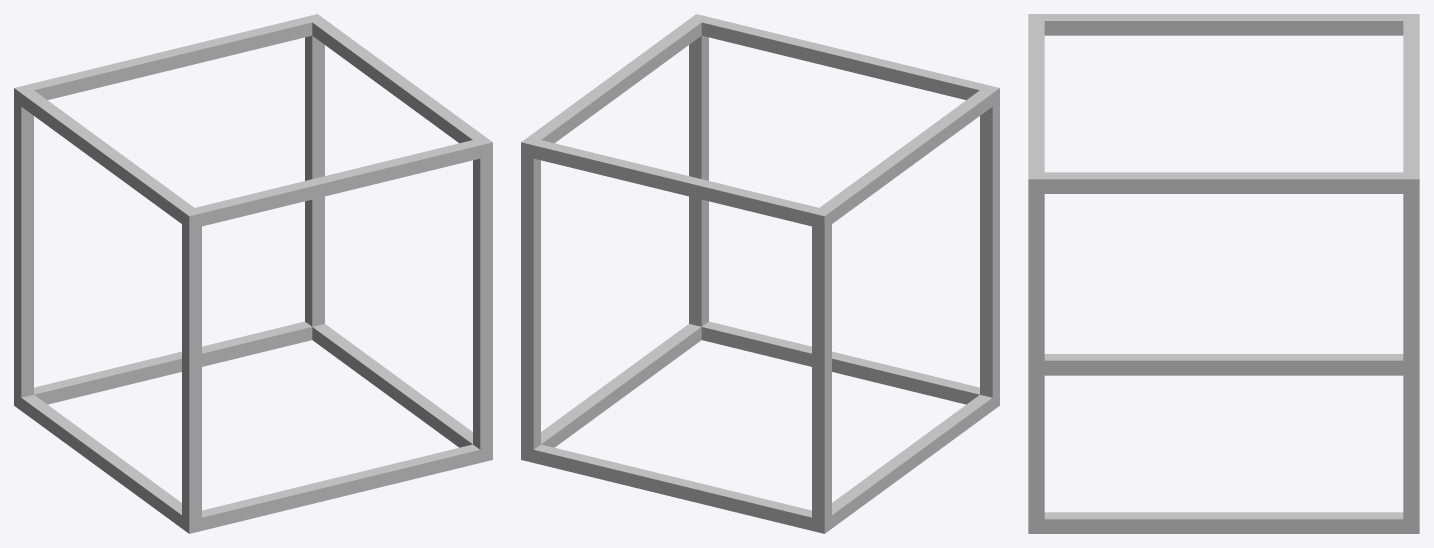
Rendered from cubeFrame.gltf.
3 renders of one model, left to right at view 1: azimuth 30°, elevation 25°; view 2: azimuth 150°, elevation 25°; view 3: azimuth 270°, elevation 25°, orthographic. The views are drawn at different scales.
Visible parts, largest first — view 1: cube (×12); view 2: cube (×12); view 3: cube (×8).
Part boxes in pixels (x1,y1,x2,y2): cube (×12): (14,14,492,533); cube (×12): (521,14,999,533); cube (×8): (1028,14,1419,533).
Bounding box in the file's own units: 3 × 3 × 3.
1 material, 1 textured.
